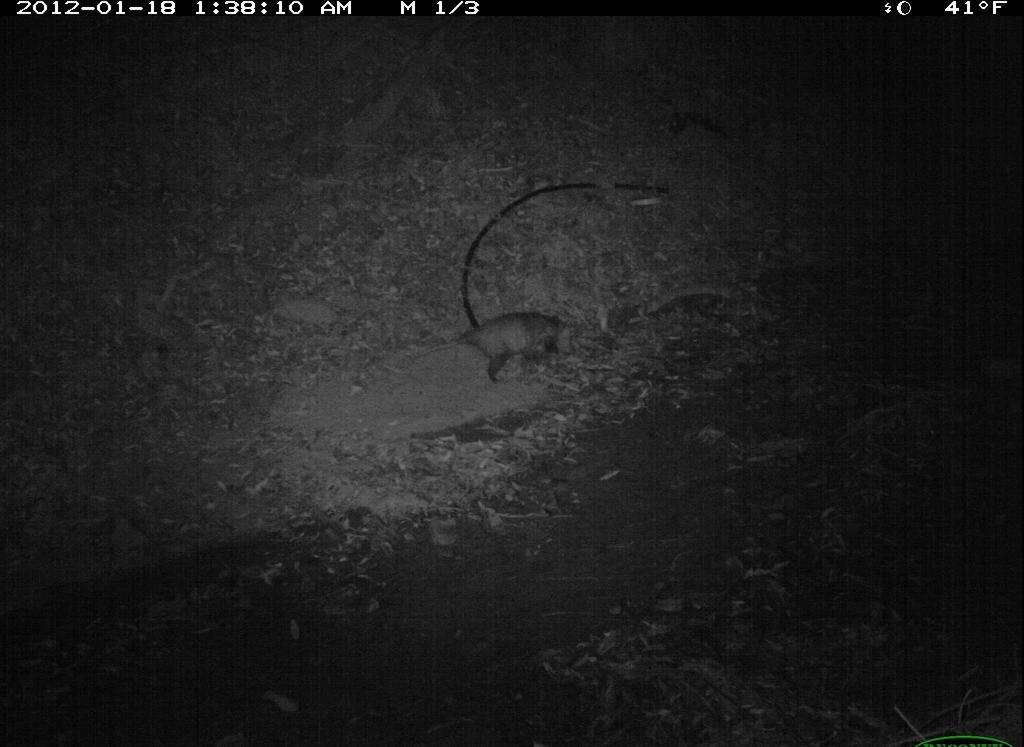opossum: (418, 298, 578, 386)
